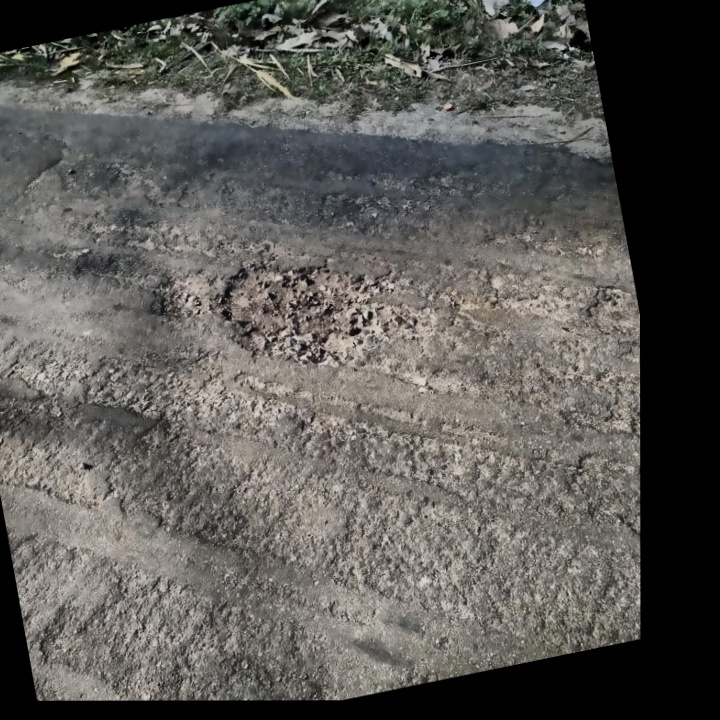pothole: (210, 230, 414, 393)
